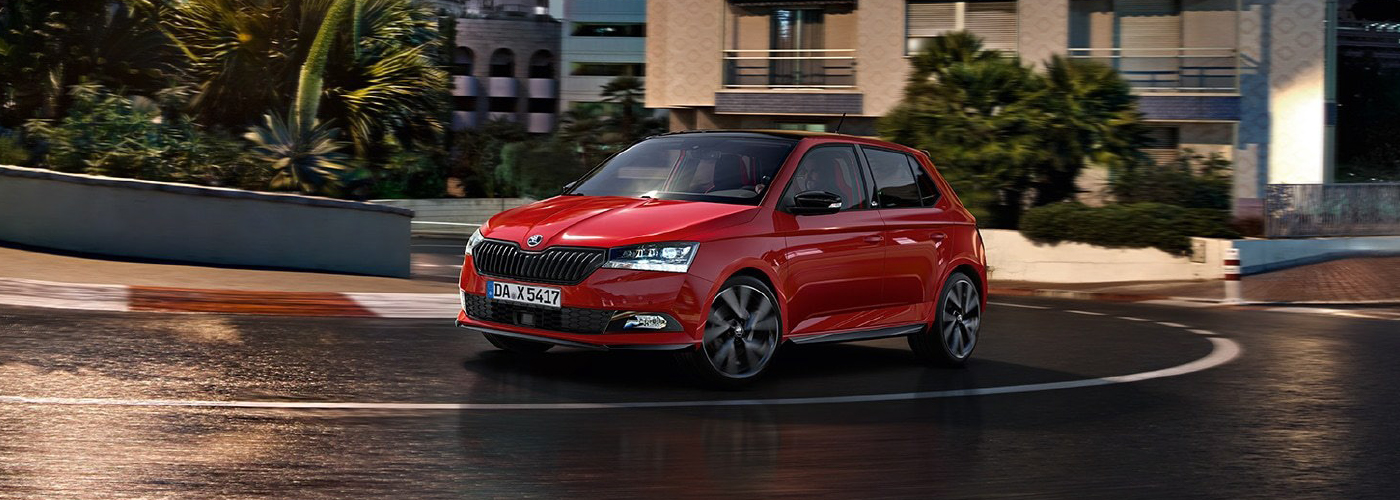license_plate: (486, 280, 561, 310)
